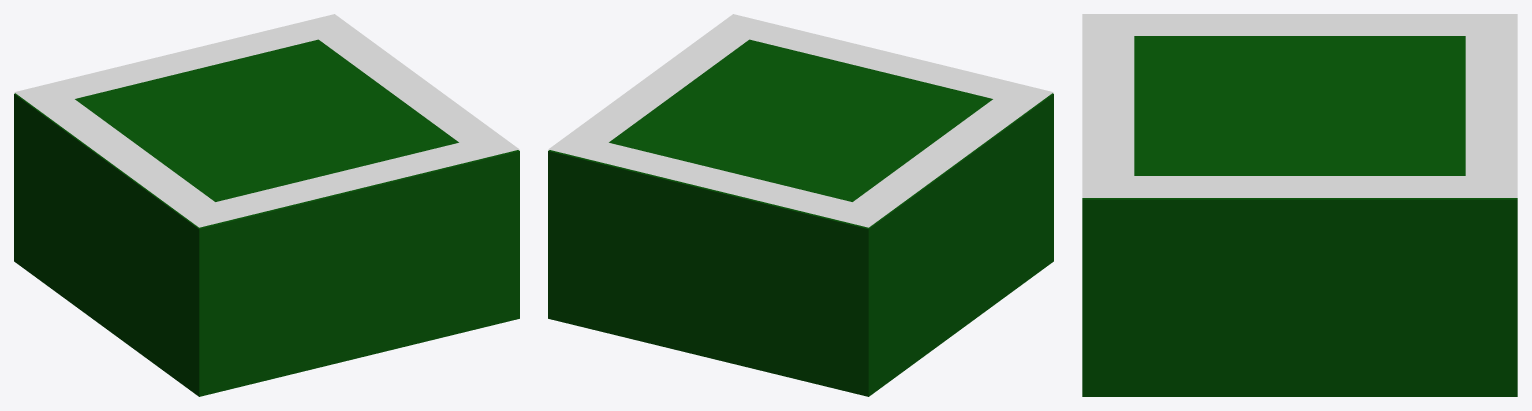
3 views of the same model, side by side, from view 1: azimuth 30°, elevation 25°; view 2: azimuth 150°, elevation 25°; view 3: azimuth 270°, elevation 25° (orthographic). The views are drawn at different scales.
Visible parts, largest first — view 1: Down, Up; view 2: Down, Up; view 3: Down, Up.
Boxes of the visible parts, x1,y1,x2,y2 form: Down: (14, 39, 519, 396); Up: (14, 14, 519, 227); Down: (548, 39, 1053, 396); Up: (548, 14, 1053, 227); Down: (1082, 36, 1517, 396); Up: (1082, 14, 1517, 197).
Size of the model in its own units: 200 by 101 by 200.
